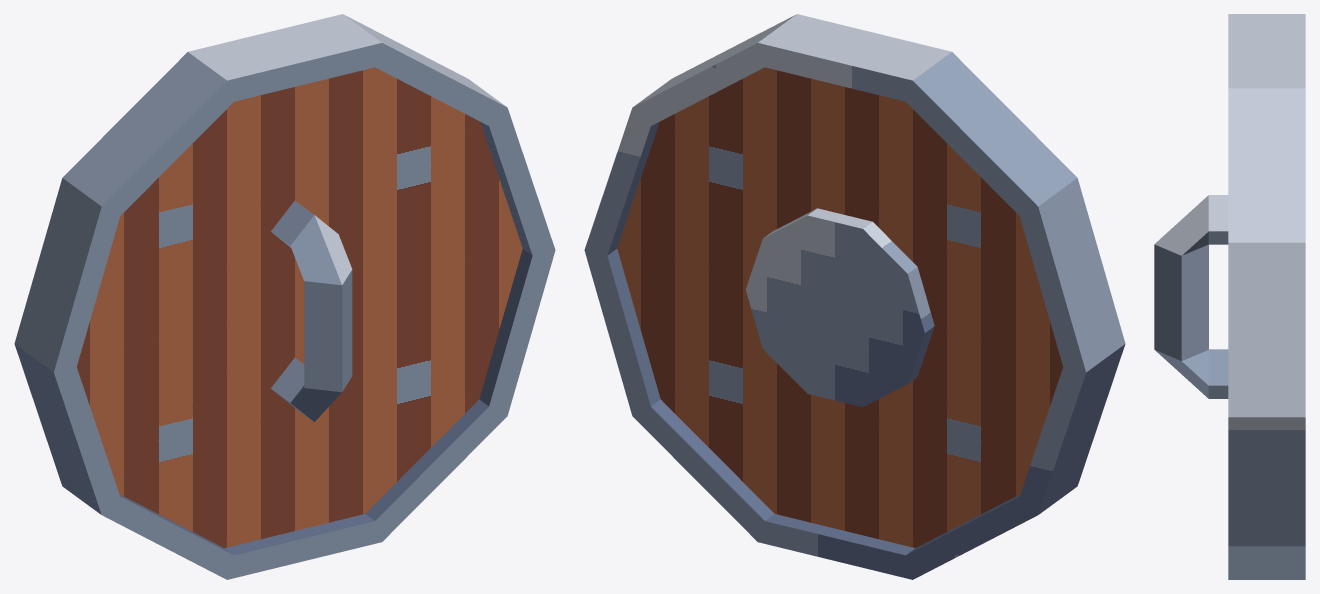
File: shield.gltf
The picture shows the model from 3 angles, left to right: view 1: azimuth 30°, elevation 25°; view 2: azimuth 150°, elevation 25°; view 3: azimuth 270°, elevation 25°; orthographic projection.
Parts seen in each view (by area): view 1: cylinder, tube, cuboid; view 2: cylinder (×2), tube; view 3: tube, cuboid.
Part boxes in pixels (x1,y1,x2,y2): cylinder: (77,67,522,547); tube: (14,14,555,579); cuboid: (271,201,352,421); cylinder (×2): (617,67,1062,547); tube: (584,14,1125,579); tube: (1228,14,1305,579); cuboid: (1154,195,1228,398).
Bounding box in the file's own units: 0.92 × 0.875 × 0.2442.
Materials: 1 (1 with a texture image).
